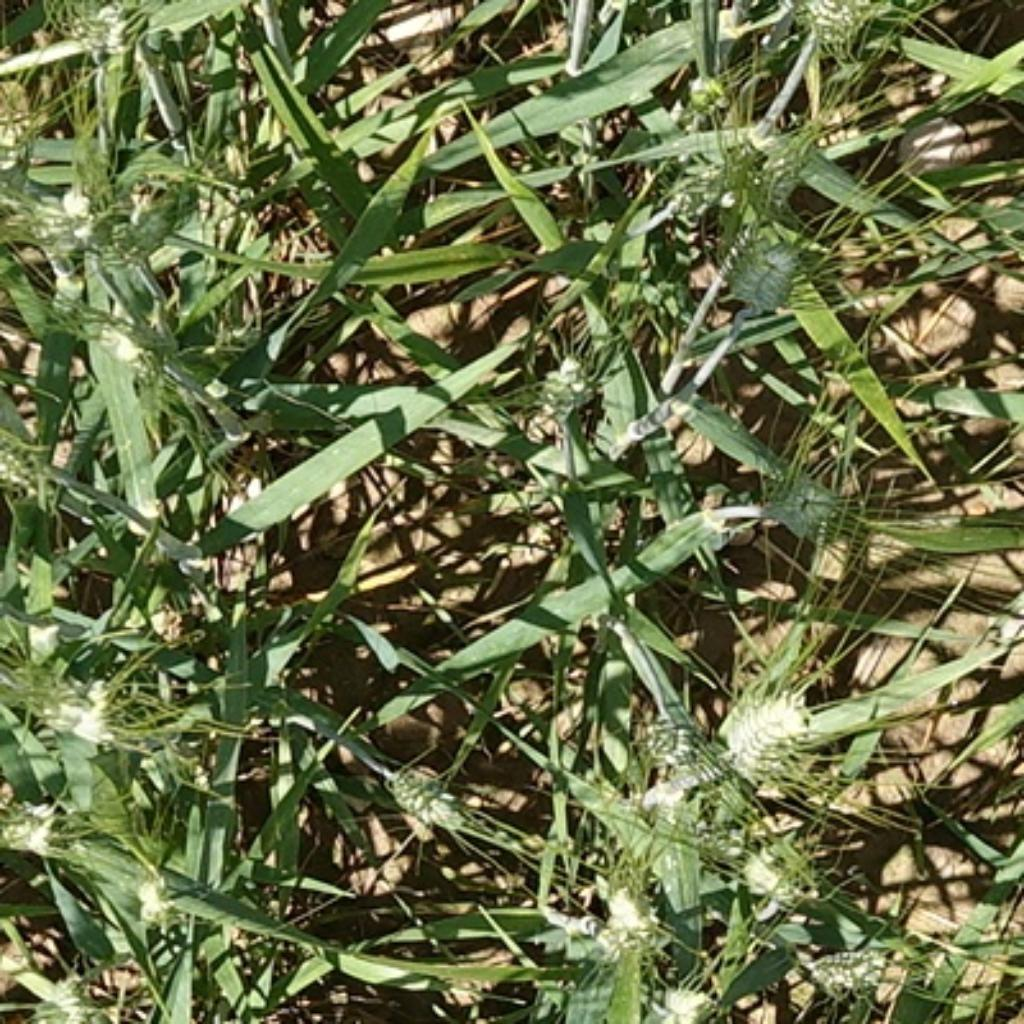0-0: (53, 286, 207, 376), (714, 668, 816, 773), (747, 442, 855, 540), (568, 862, 668, 967), (69, 136, 145, 269), (599, 752, 709, 839), (732, 816, 824, 911), (20, 954, 143, 1024), (720, 229, 809, 322), (629, 696, 721, 785), (37, 657, 125, 748), (376, 747, 471, 826), (2, 798, 92, 878), (524, 337, 601, 422), (798, 929, 896, 995), (64, 2, 148, 71), (2, 430, 74, 506), (128, 860, 192, 931), (637, 970, 716, 1024), (791, 0, 877, 46), (713, 156, 772, 222), (686, 78, 732, 115)
